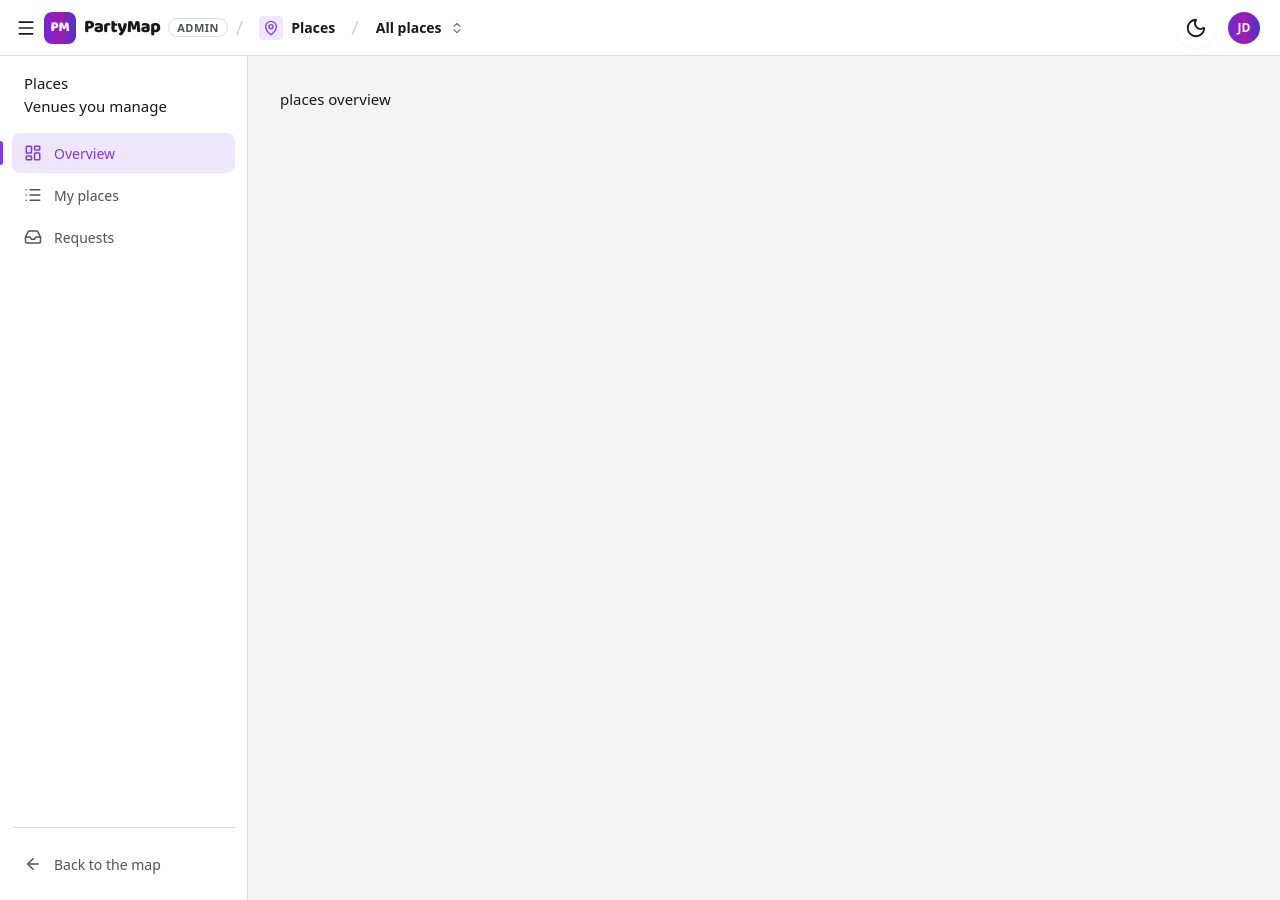
Test: AdminShell › closes the drawer with its close button
Click the button named "Open navigation".
click(26, 28)  # box [16,18,36,38]
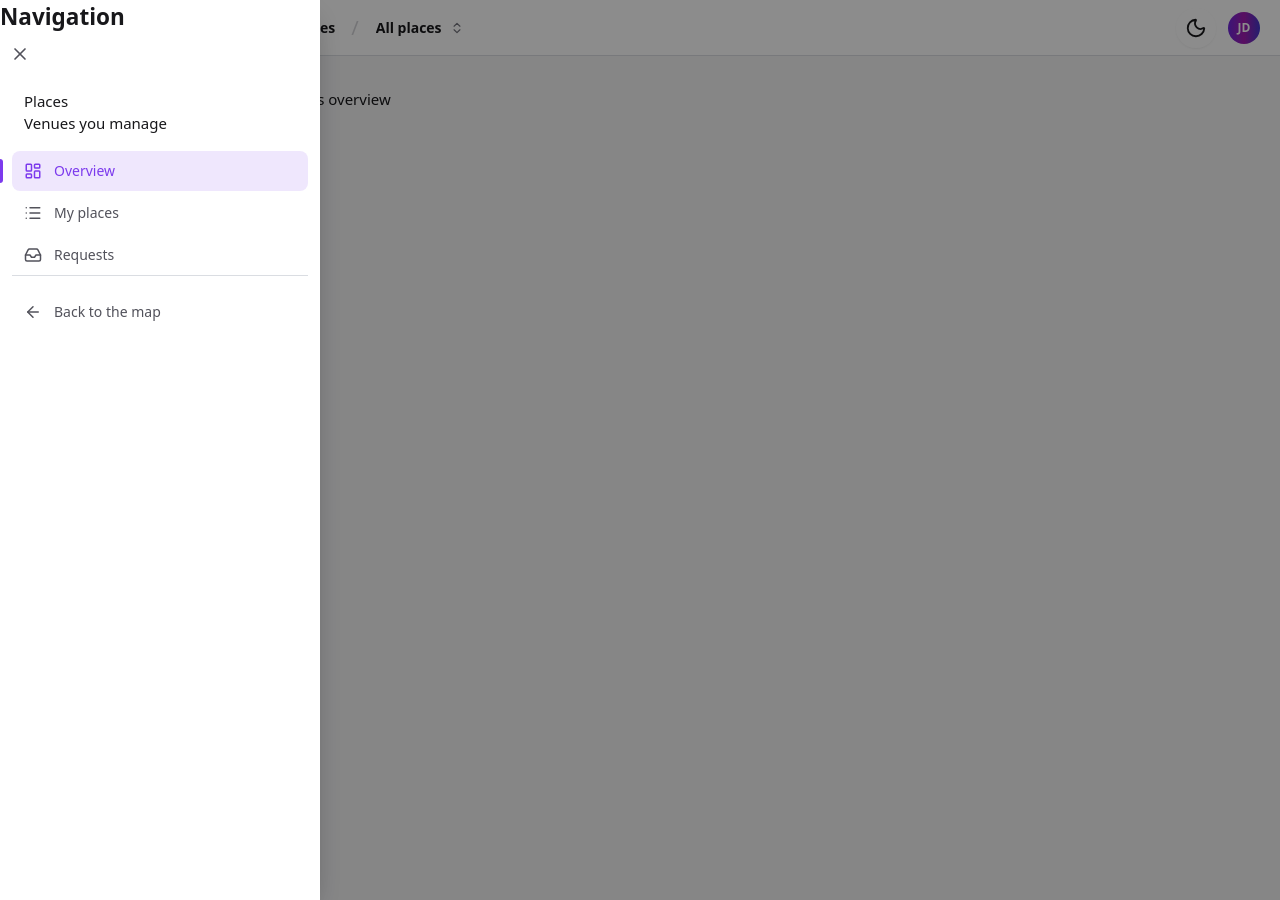
Click the button named "Close navigation".
click(20, 54)  # box [0,34,40,74]
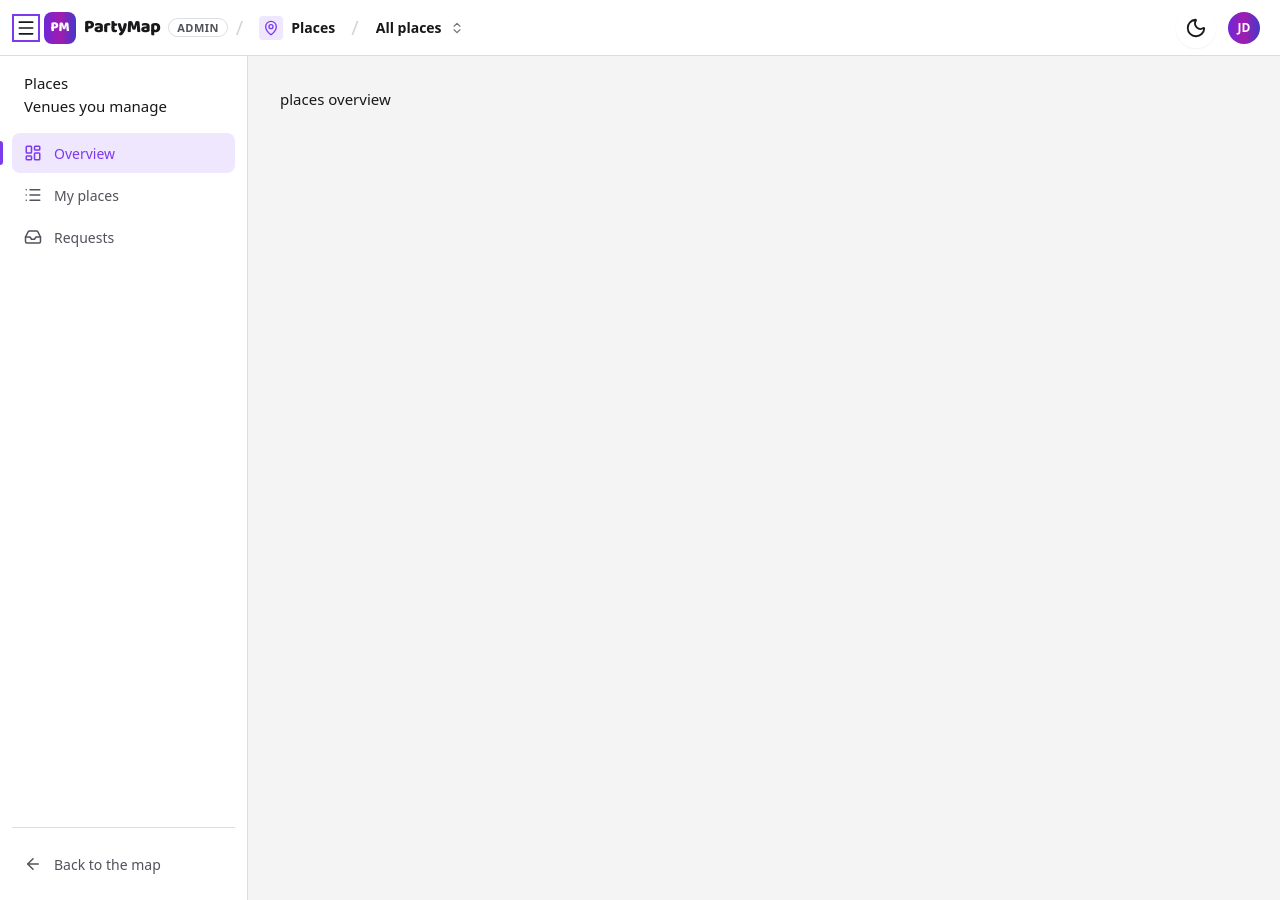
Expected: the heading "Navigation" is gone
